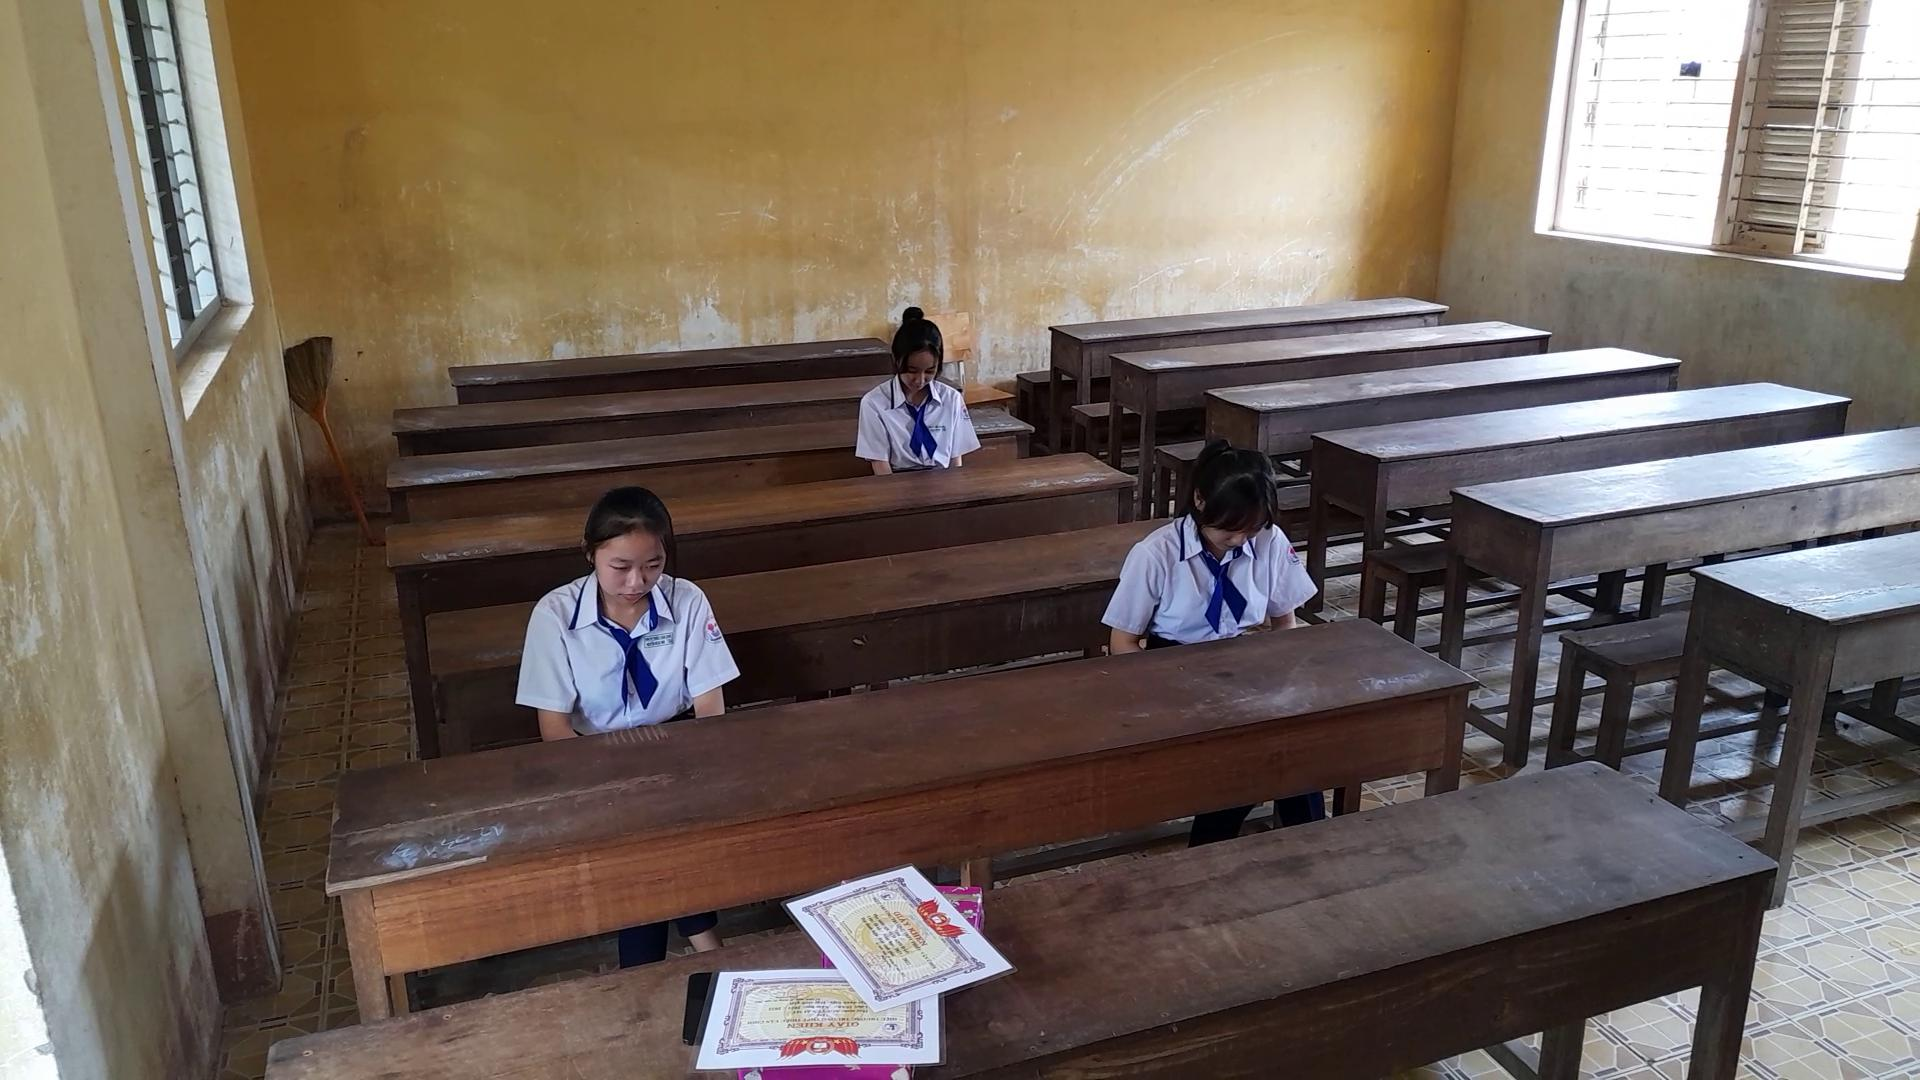Bend Over The Desk: (560, 484, 692, 609), (1159, 433, 1291, 556), (873, 299, 972, 393)
Hand Under Table: (509, 583, 585, 748), (673, 584, 738, 732), (1095, 530, 1155, 667), (1259, 535, 1316, 647), (855, 390, 899, 484), (940, 385, 984, 479)
